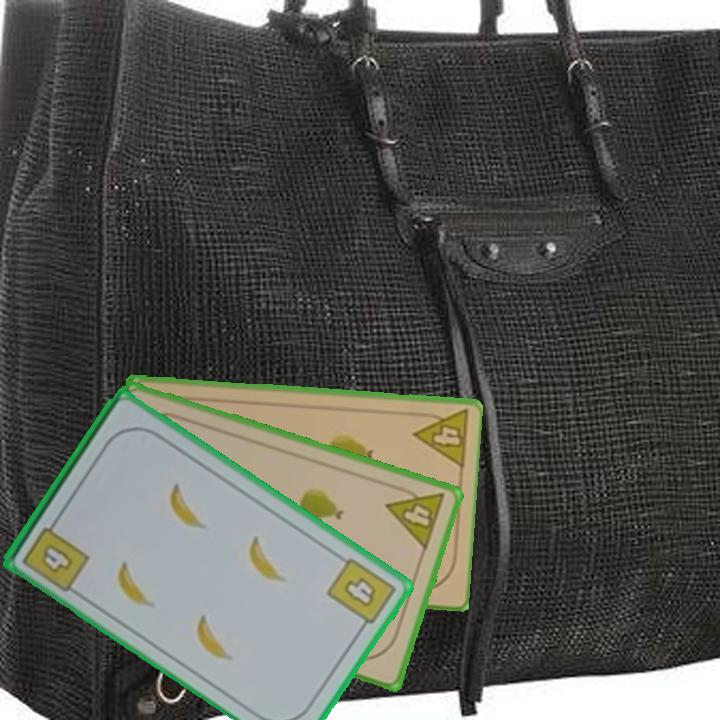4b: (323, 554, 399, 635), (18, 513, 93, 595)
4p: (382, 480, 448, 553), (409, 406, 470, 471)
